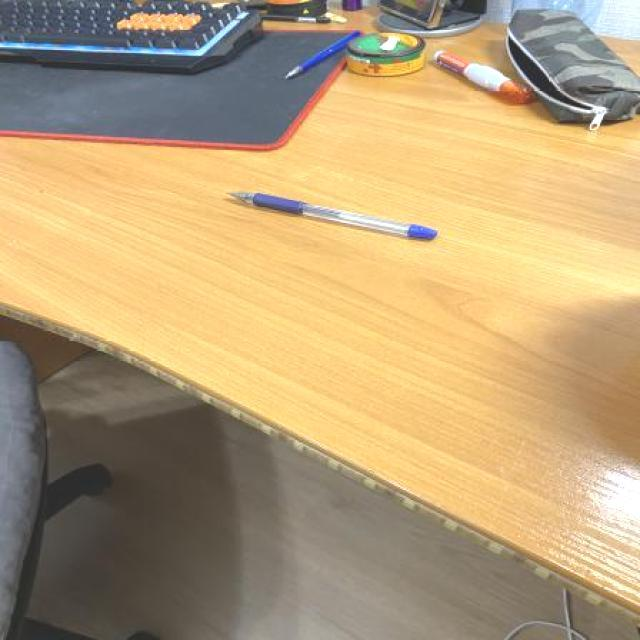pen: (226, 191, 437, 241)
